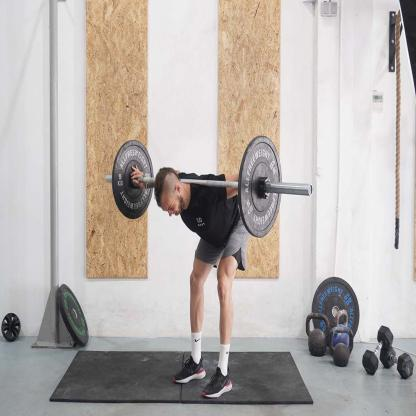Barbell: (236, 131, 292, 240)
